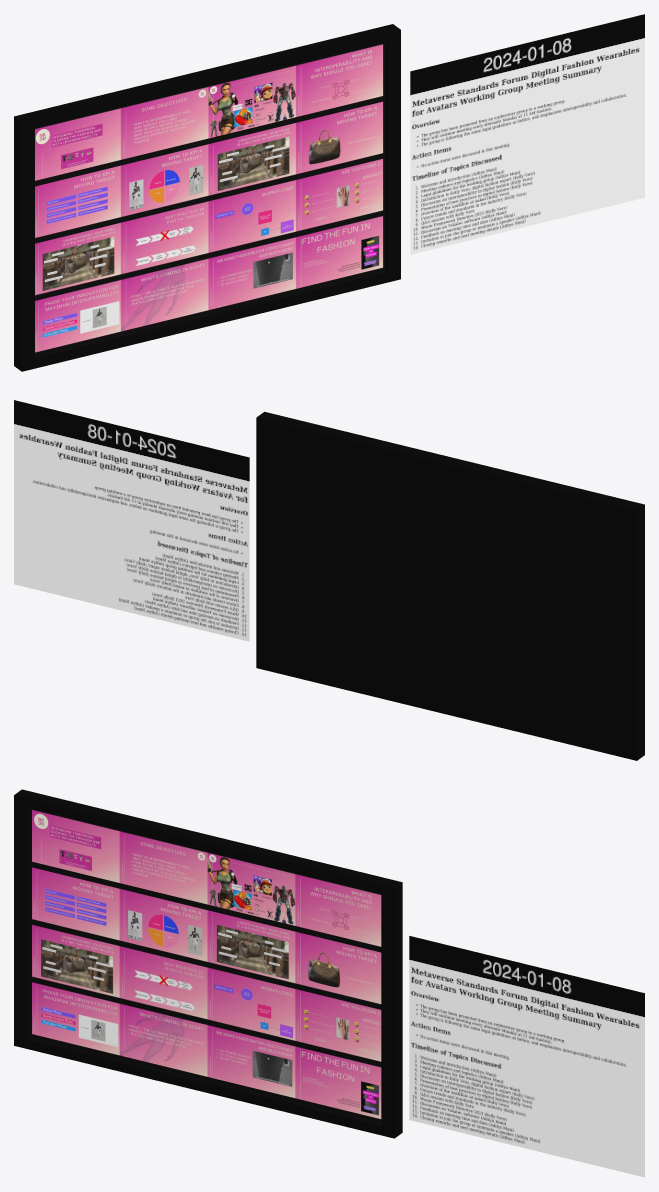
The picture shows the model from 3 angles, top to bottom: view 1: azimuth 30°, elevation 25°; view 2: azimuth 150°, elevation 25°; view 3: azimuth 330°, elevation 25°; orthographic projection.
Parts seen in each view (by area): view 1: 2024-01-08; view 2: 2024-01-08; view 3: 2024-01-08.
Boxes of the visible parts, x1,y1,x2,y2 form: 2024-01-08: (14, 14, 644, 371); 2024-01-08: (14, 400, 644, 760); 2024-01-08: (14, 789, 644, 1177).
Bounding box in the file's own units: 3.02 × 1.15 × 0.0666.
3 materials, 2 textured.
